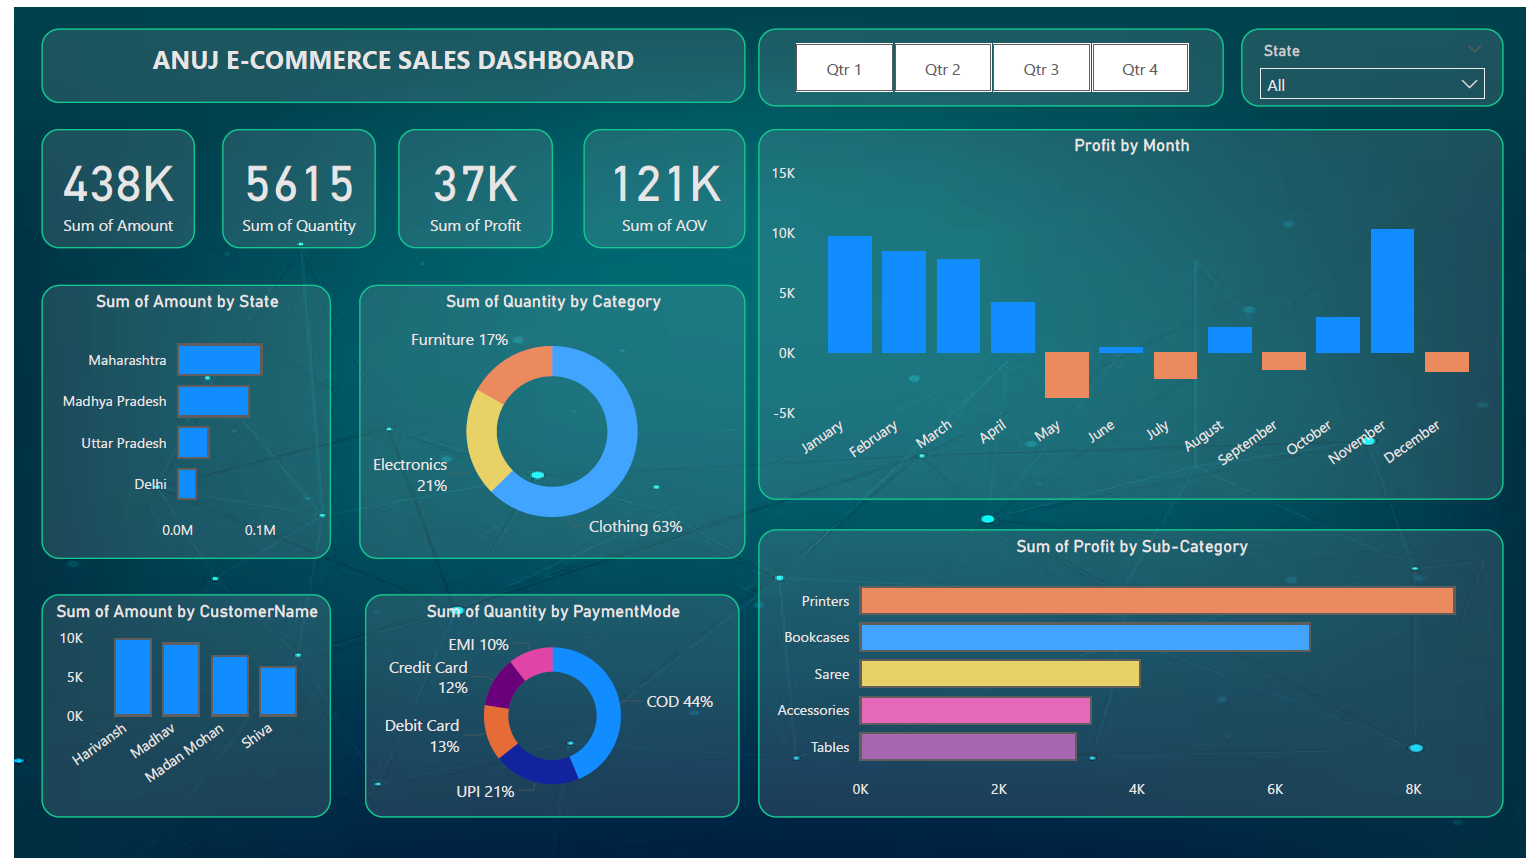

Layout of this report page (visuals, bound fields, positions):
{"tool":"powerbi","page":{"name":"Page 1","canvas":[1280,720],"ordinal":0},"visuals":[{"type":"textbox","box":[23.3,17.8,595.5,63.1],"z":0},{"type":"columnChart","title":"Profit by Month","fields":{"Y":["Details.Profit"],"Category":["Orders.Order Date.Variation.Date Hierarchy.Month"]},"box":[629.8,102.5,631,314.9],"z":1000},{"type":"barChart","fields":{"Category":["Details.Sub-Category"],"Y":["Details.Profit"]},"box":[629.8,441.6,631,244.9],"z":2000},{"type":"donutChart","fields":{"Category":["Details.Category"],"Y":["Details.Quantity"]},"box":[292.3,234.6,326.6,231.9],"z":3000},{"type":"donutChart","fields":{"Y":["Details.Quantity"],"Category":["Details.PaymentMode"]},"box":[296.8,497.1,317.3,189.4],"z":4000},{"type":"card","fields":{"Values":["Details.Amount"]},"box":[22.9,102.5,130.3,101.3],"z":5000},{"type":"card","fields":{"Values":["Details.Quantity"]},"box":[175.6,102.9,130.4,101.5],"z":6000},{"type":"card","fields":{"Values":["Details.Profit"]},"box":[325.2,102.9,130.4,101.5],"z":7000},{"type":"card","fields":{"Values":["Details.AOV"]},"box":[481.6,102.9,137.2,101.5],"z":8000},{"type":"barChart","fields":{"Category":["Orders.State"],"Y":["Details.Amount"]},"box":[23.3,234.6,244.3,231.9],"z":8001},{"type":"columnChart","fields":{"Category":["Orders.CustomerName"],"Y":["Details.Amount"]},"box":[23,497,245,189],"z":8002},{"type":"slicer","fields":{"Values":["Orders.Order Date.Variation.Date Hierarchy.Quarter"]},"box":[629.8,17.8,393.8,65.9],"z":8003},{"type":"slicer","fields":{"Values":["Orders.State"]},"box":[1038.8,17.8,222.3,65.9],"z":8004}]}

Visuals, with their boxes in screenshot pixels (x1, y1, x2, y2), scaled from the page's 1280x720 canvas onto the 1536x867 screenshot:
textbox: 28, 21, 743, 97
"Profit by Month" columnChart: 756, 123, 1513, 503
barChart - Details.Sub-Category x Details.Profit: 756, 532, 1513, 827
donutChart - Details.Category x Details.Quantity: 351, 282, 743, 562
donutChart - Details.Quantity x Details.PaymentMode: 356, 599, 737, 827
card - Details.Amount: 27, 123, 184, 245
card - Details.Quantity: 211, 124, 367, 246
card - Details.Profit: 390, 124, 547, 246
card - Details.AOV: 578, 124, 743, 246
barChart - Orders.State x Details.Amount: 28, 282, 321, 562
columnChart - Orders.CustomerName x Details.Amount: 28, 598, 322, 826
slicer - Orders.Order Date.Variation.Date Hierarchy.Quarter: 756, 21, 1228, 101
slicer - Orders.State: 1247, 21, 1513, 101
